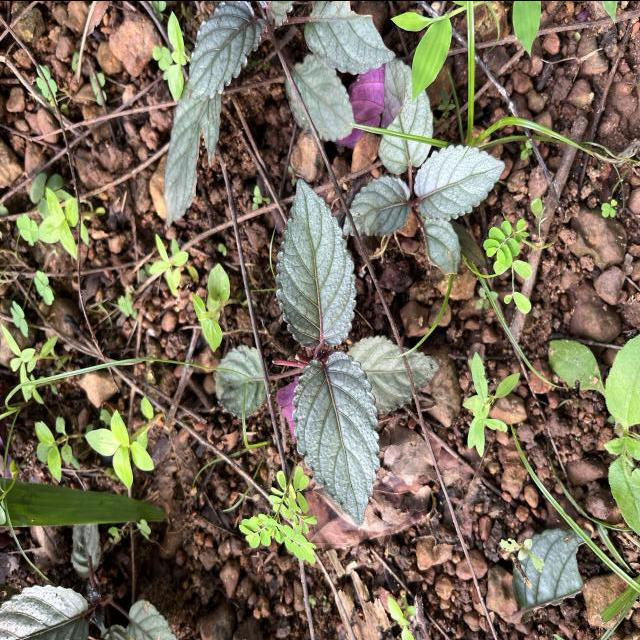Hemigraphis colorata: (288, 348, 382, 528), (272, 174, 360, 352), (185, 0, 268, 102), (412, 140, 506, 222), (338, 172, 414, 240)
